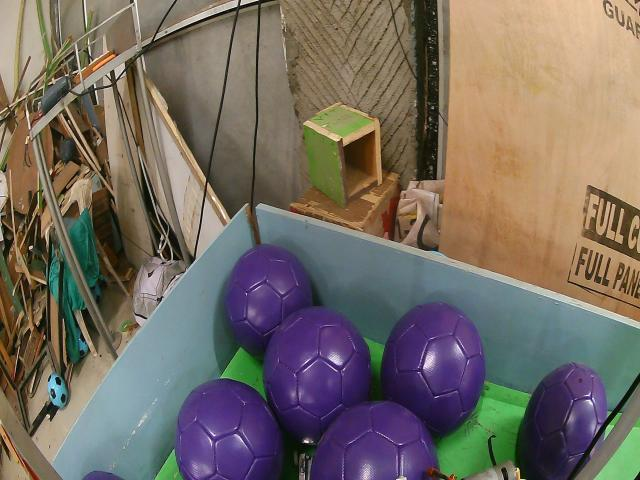jambhalya: (262, 307, 371, 445), (381, 302, 485, 433), (175, 378, 284, 480), (516, 363, 608, 480), (310, 402, 439, 480), (225, 243, 312, 355)
